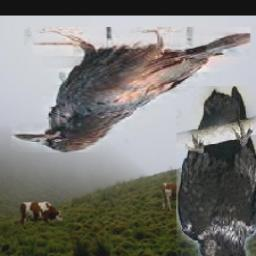Crow: (11, 28, 250, 153), (177, 87, 256, 256)
